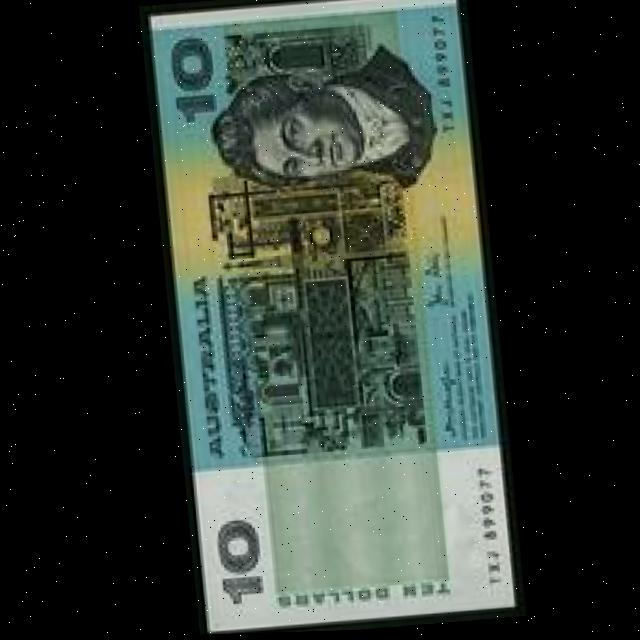banknote: (145, 0, 513, 632)
